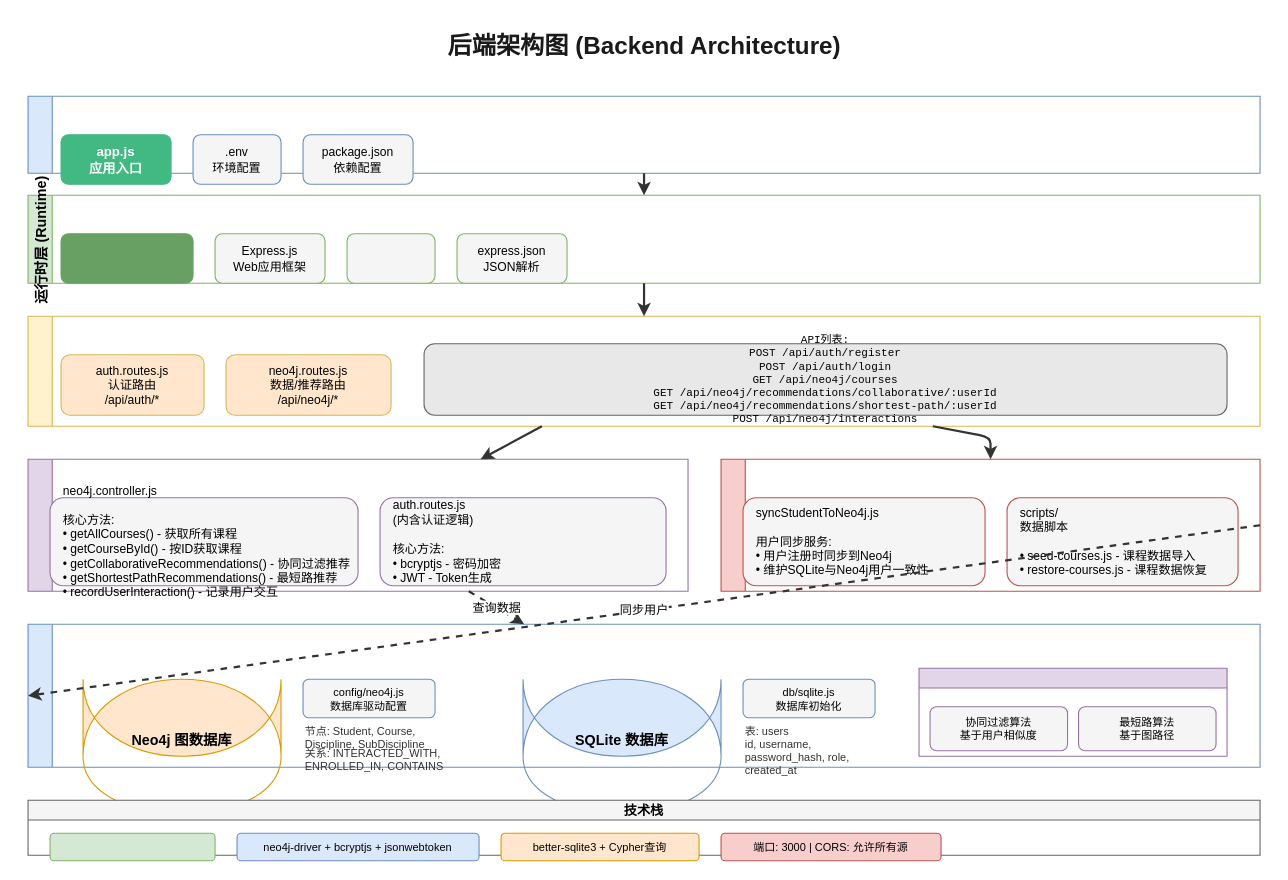
This 1288x880 diagram has some shape labels left out. The shapes that lost their labels are listed below. From the top down, each one's box as (x1, y1, x2, y2) in pixels, then its label:
(27, 95, 1260, 173): 入口层 (Entry)
(60, 233, 193, 283): Node.js JavaScript运行时
(346, 233, 435, 283): CORS 跨域中间件
(27, 315, 1260, 426): 路由层 (Routes)
(27, 458, 688, 591): 控制器层 (Controllers)
(720, 458, 1260, 591): 服务层 (Services)
(27, 623, 1260, 767): 数据层 (Data)
(918, 667, 1227, 756): 推荐引擎
(49, 832, 215, 861): Node.js + Express.js + CORS
